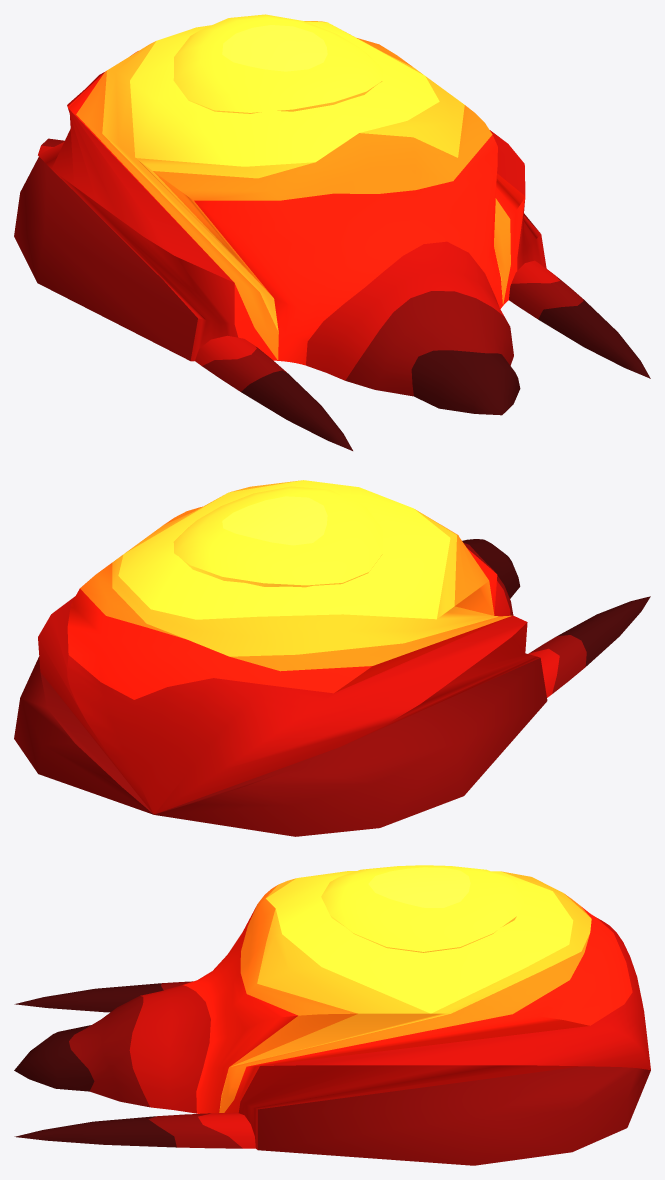
The model's file is shot_megapulse_36.glb.
The picture shows the model from 3 angles, top to bottom: view 1: azimuth 30°, elevation 25°; view 2: azimuth 150°, elevation 25°; view 3: azimuth 270°, elevation 25°; orthographic projection. The views are drawn at different scales.
Visible parts, largest first — view 1: shot_megapulse_36_fire, shot_megapulse_36_core, shot_megapulse_36_tongue0, shot_megapulse_36_tongue1; view 2: shot_megapulse_36_fire, shot_megapulse_36_core, shot_megapulse_36_tongue0; view 3: shot_megapulse_36_fire, shot_megapulse_36_core, shot_megapulse_36_tongue1, shot_megapulse_36_tongue0.
Part boxes in pixels (left/top/right/bottom): shot_megapulse_36_fire: left=14, top=21, right=546, bottom=415; shot_megapulse_36_core: left=173, top=14, right=382, bottom=113; shot_megapulse_36_tongue0: left=195, top=335, right=352, bottom=450; shot_megapulse_36_tongue1: left=509, top=260, right=650, bottom=378; shot_megapulse_36_fire: left=14, top=480, right=547, bottom=836; shot_megapulse_36_core: left=173, top=486, right=382, bottom=587; shot_megapulse_36_tongue0: left=528, top=596, right=650, bottom=697; shot_megapulse_36_fire: left=14, top=871, right=650, bottom=1165; shot_megapulse_36_core: left=321, top=865, right=525, bottom=952; shot_megapulse_36_tongue1: left=14, top=1112, right=255, bottom=1148; shot_megapulse_36_tongue0: left=14, top=981, right=192, bottom=1012.
Size of the model in its own units: 9.9 by 4.58 by 14.
